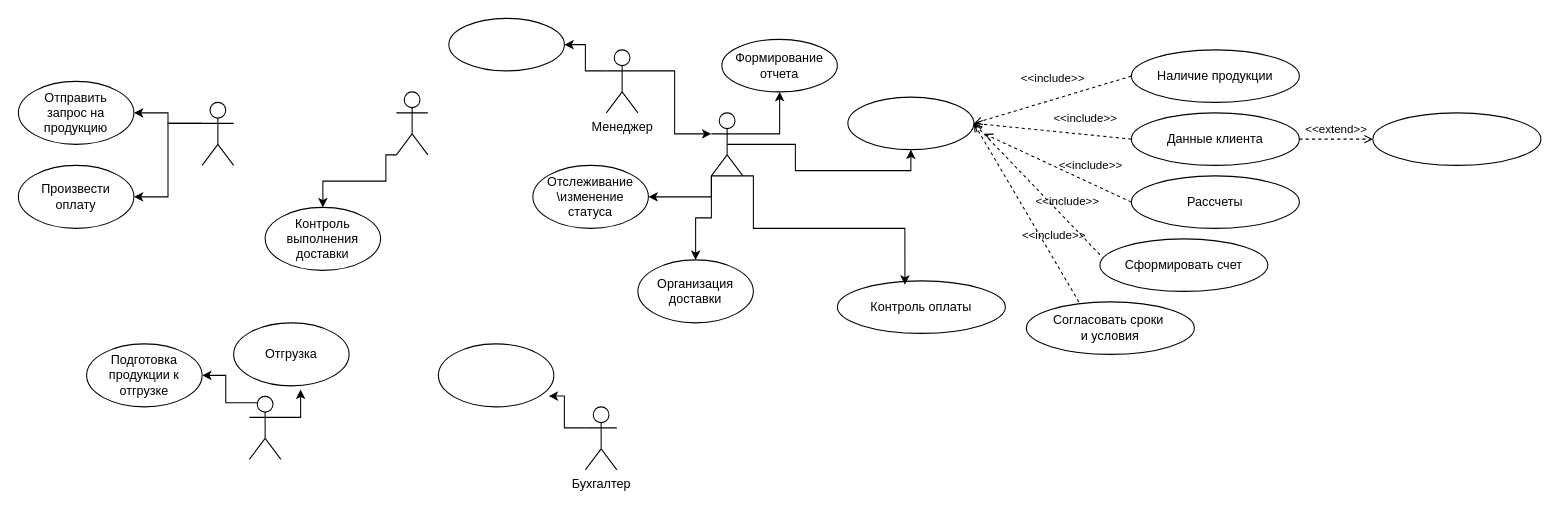
Image size: 1559x516. Some labels were removed from this diagram. Here are the shapes that lost their labels. From the top down, the box of each, then its label:
(448, 17, 564, 71): Принять запрос
(201, 101, 234, 165): Клиент
(395, 91, 428, 155): Логист
(847, 96, 974, 150): Обработать заявку
(1372, 112, 1541, 165): Внести/обновить данные клиента
(710, 112, 743, 176): ОДИН
(437, 343, 554, 407): Получение и контроль счетов
(248, 395, 281, 459): Складской сотрудник
